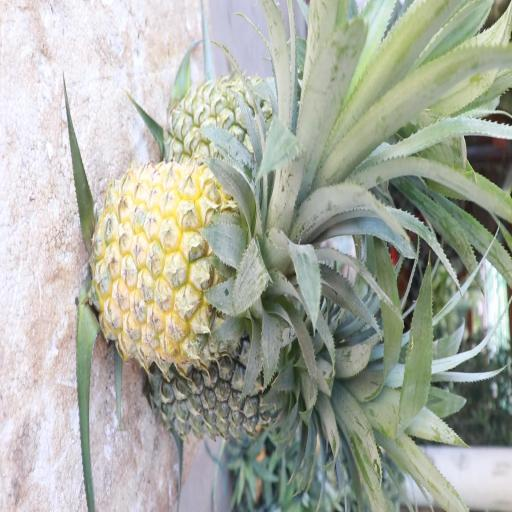------------------------------: (162, 66, 299, 175)
Pineapple - v8 v1: (91, 154, 304, 360)
